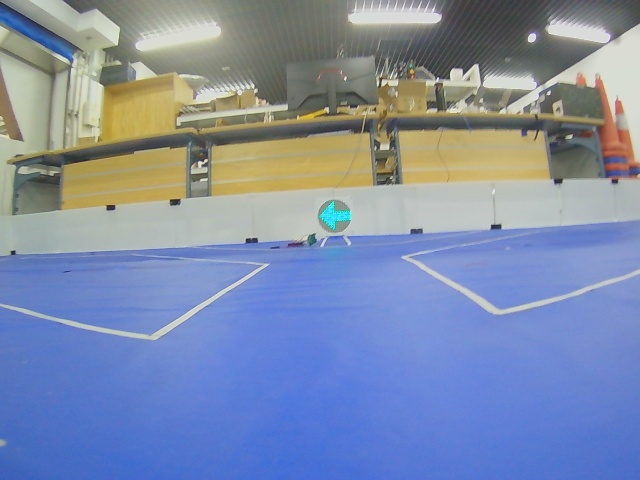left_green: (318, 200, 352, 232)
